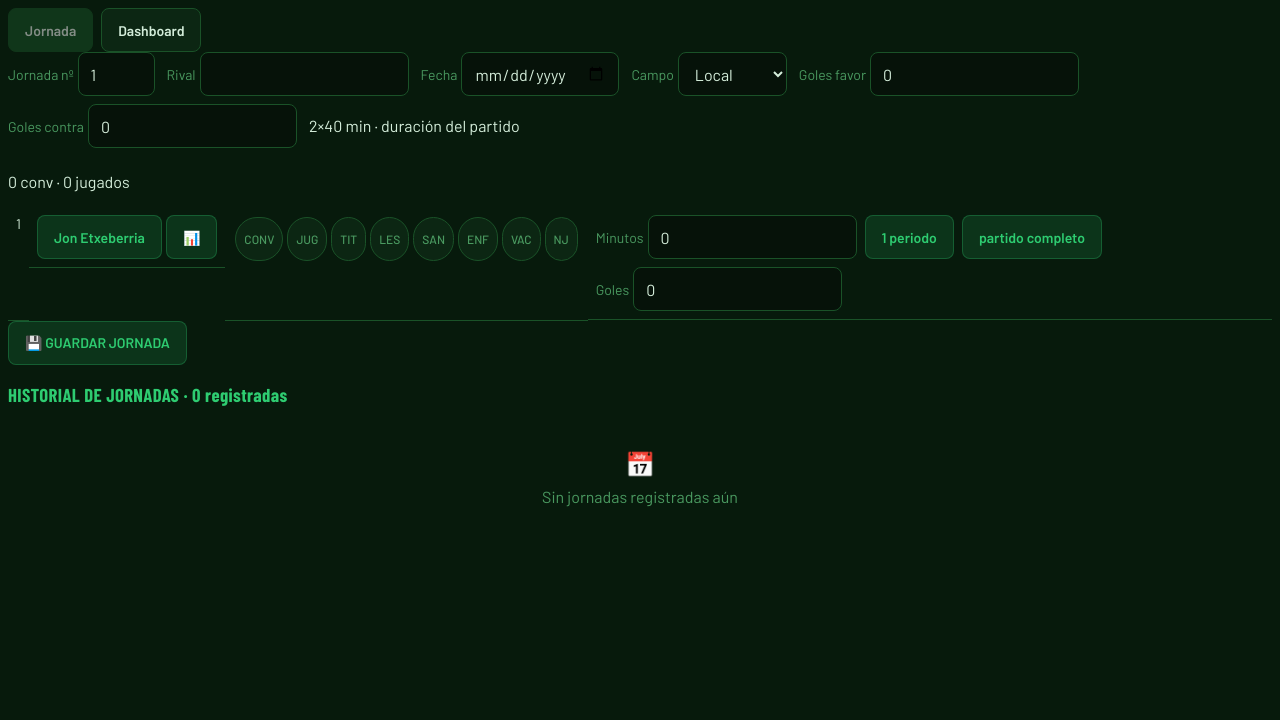
MinutajeTab › toggling the TIT pill with minutos at 0 fills minutos with match duration
This screenshot has width=1280, height=720.
Expected: the button "Jon Etxeberria" is shown, left=37, top=215, right=162, bottom=259
Click the button "TIT": (349, 239) left=331, top=217, right=366, bottom=261
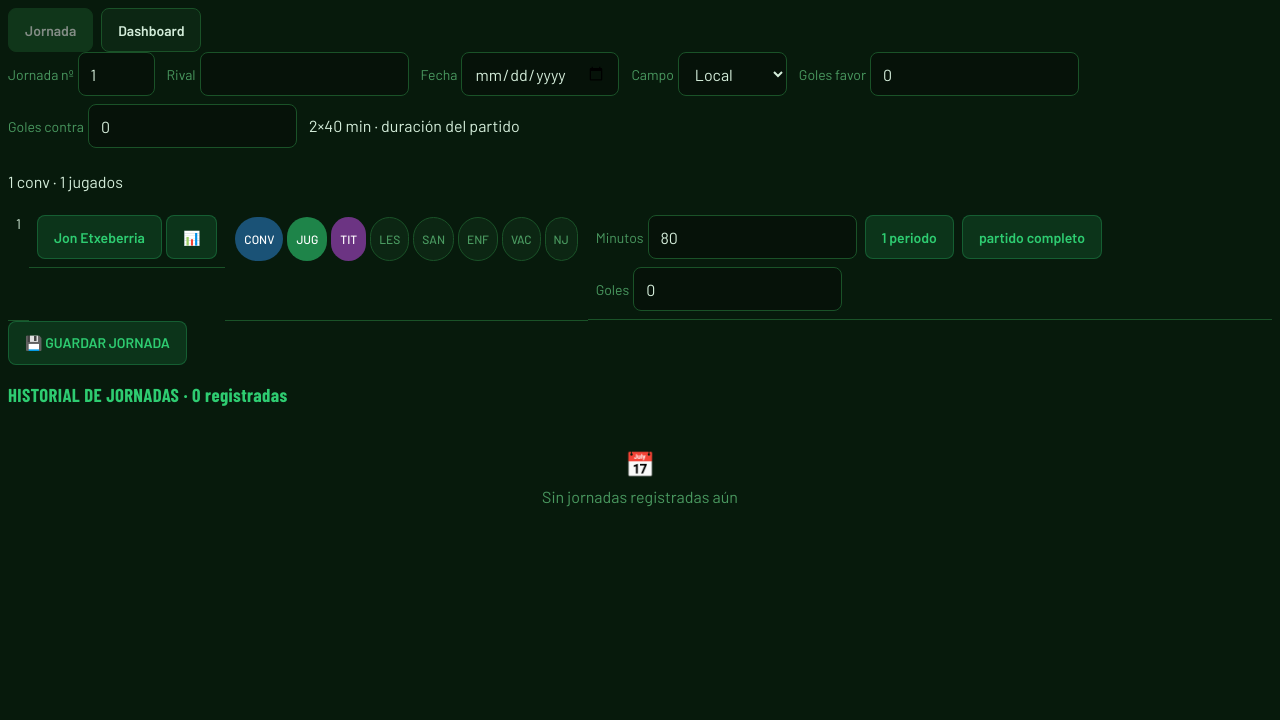
Result: the number field labelled "Minutos" holds "80" at left=648, top=215, right=856, bottom=259
